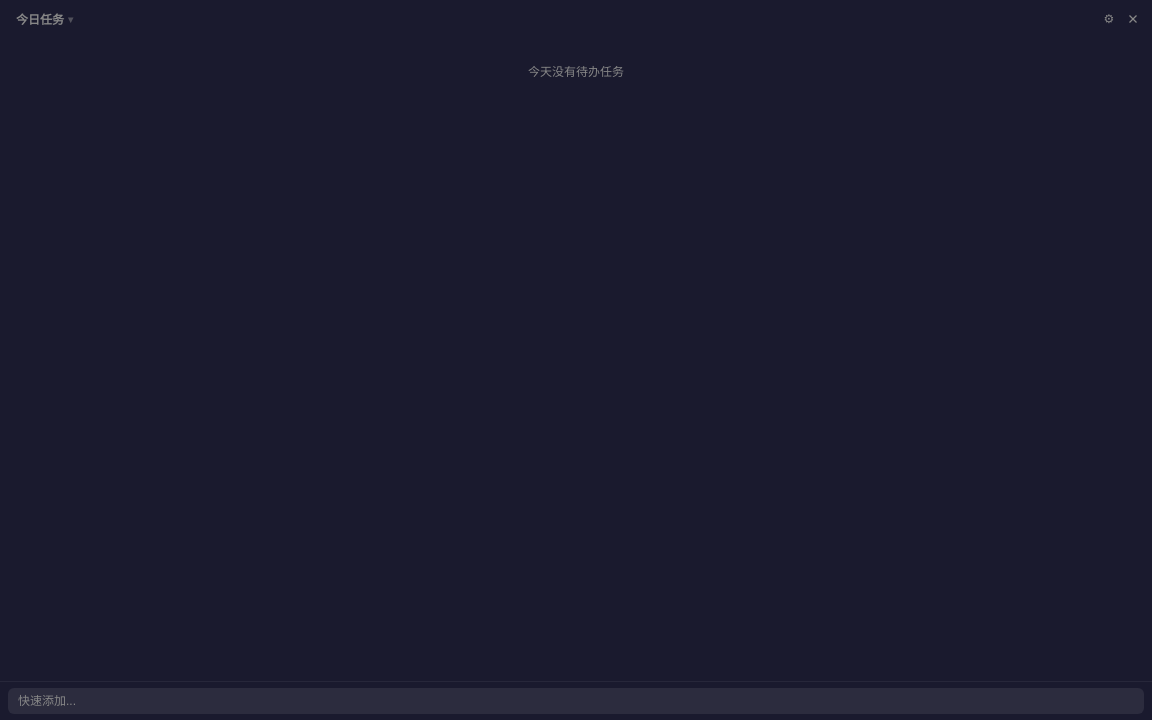
WidgetView.vue › settings panel › renders theme, opacity, and always-on-top controls in settings
Click the button with class "gear-icon" at (1109, 19), box left=1098, top=8, right=1120, bottom=30
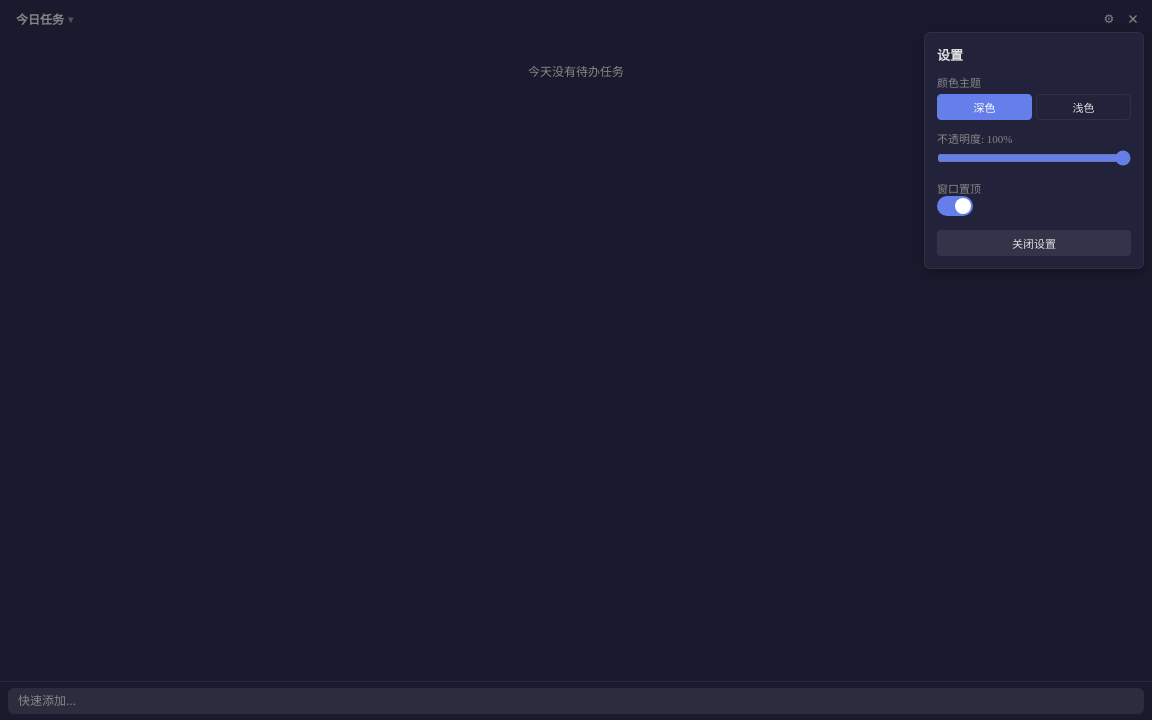
Now the text "颜色主题" is shown, box left=937, top=77, right=981, bottom=89
Now the text "不透明度" is shown, box left=937, top=133, right=1012, bottom=145
Now the text "窗口置顶" is shown, box left=937, top=183, right=981, bottom=195
